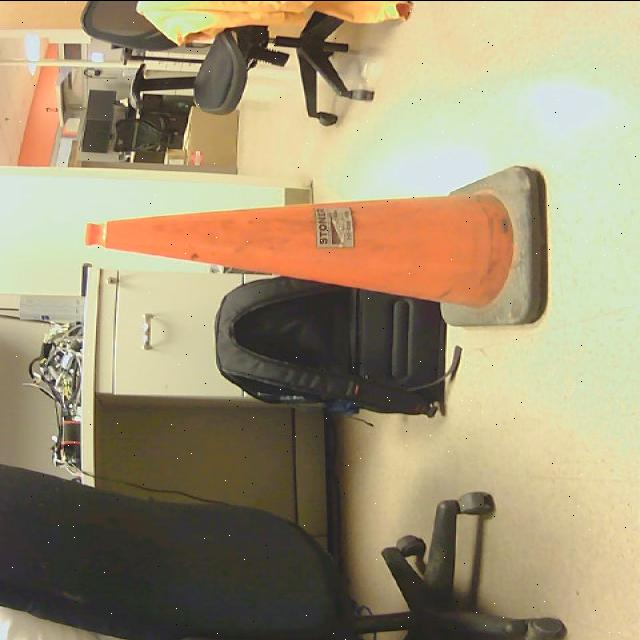traffic cone: (85, 165, 552, 327)
